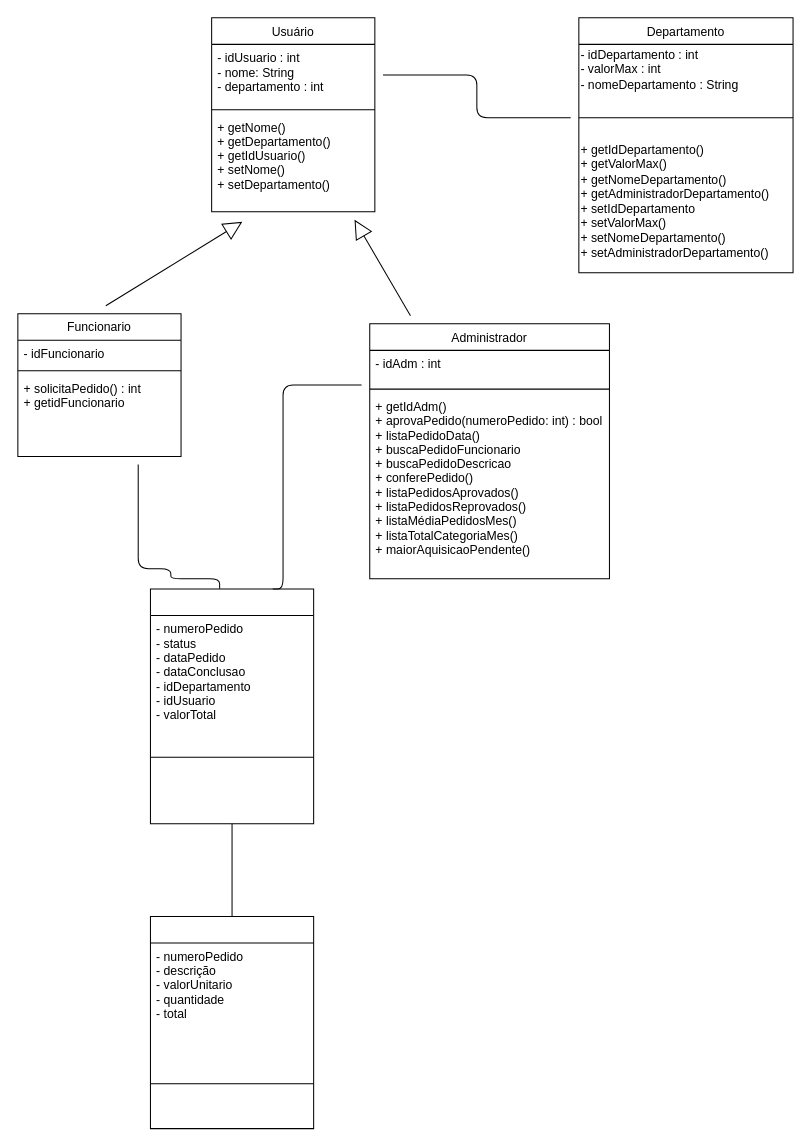
The diagram is 811 pixels wide and 1146 high, and some of its shapes have lost their labels. Here are the shapes that lost their labels. From the top down, the box of each, then its label:
(149, 588, 314, 824): Pedido Aquisição
(149, 915, 314, 1129): Item
